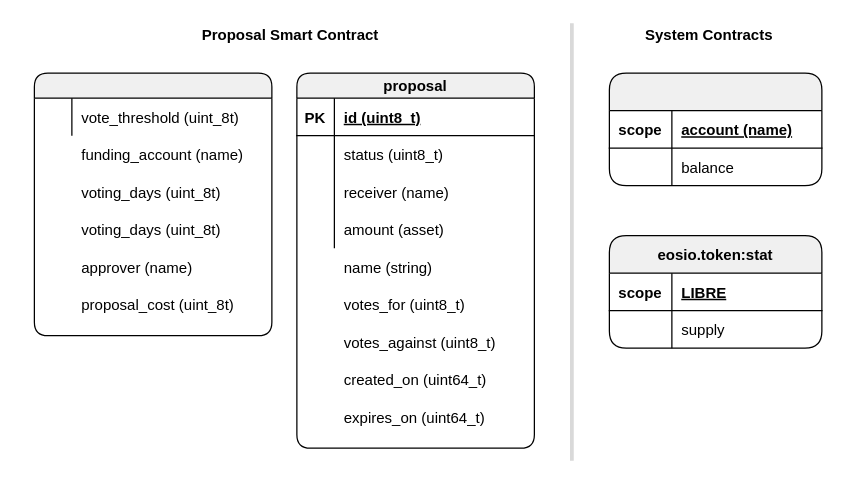
The diagram is 856 pixels wide and 485 high, and some of its shapes have lost their labels. The shapes that lost their labels are listed below. From the top down, each one's box as (x1, y1, x2, y2) in pixels, then its label:
(608, 72, 822, 186): eosio.token:accounts
(33, 72, 272, 336): proposal_params
